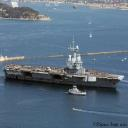Portanaves: (4, 34, 126, 91)
